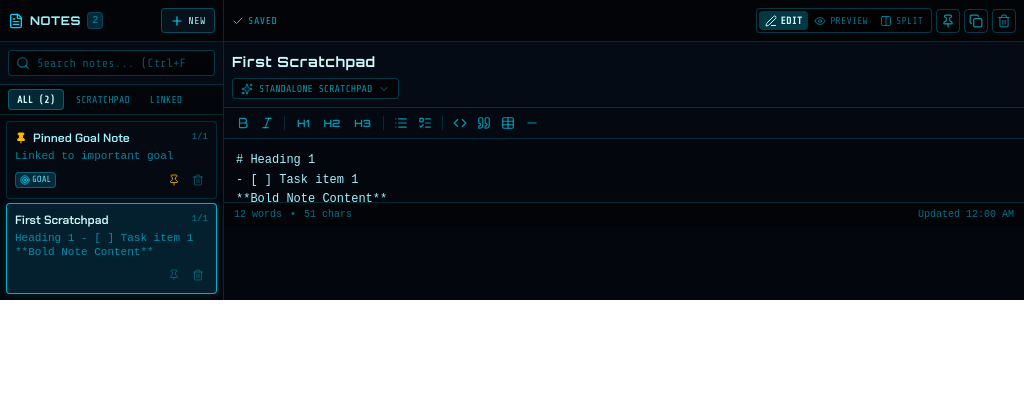
NotesView Component › creates a new note when clicking NEW button
The width and height of the screenshot is (1036, 399).
Expected: the text "Pinned Goal Note" is shown, [33,130,130,146]
Click the button titled "Create New Note".
click(188, 20)  # box [161,8,215,33]
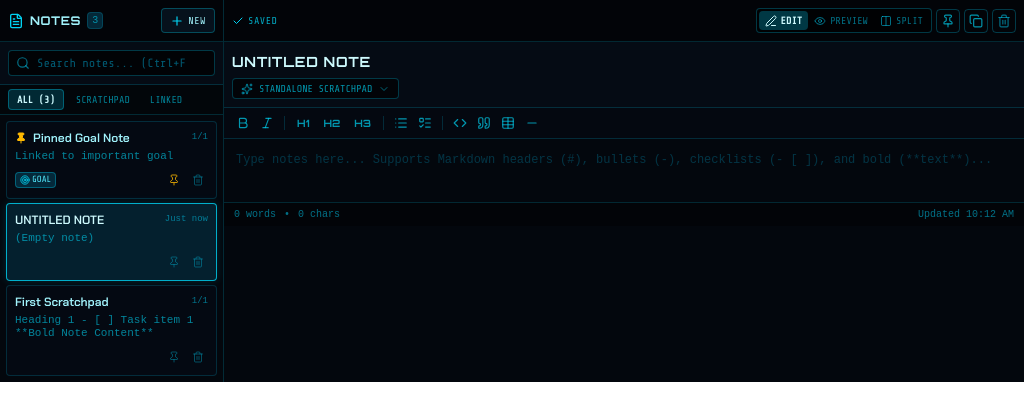
Expected: the text "UNTITLED NOTE" is shown, [15,212,104,228]
